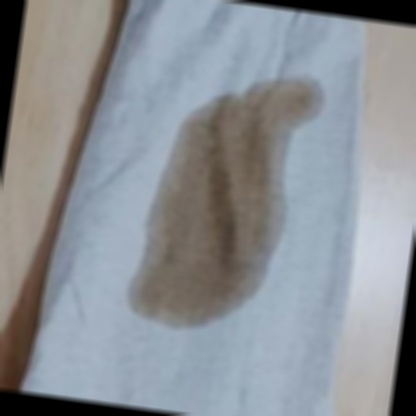coffee: (141, 102, 297, 327)
